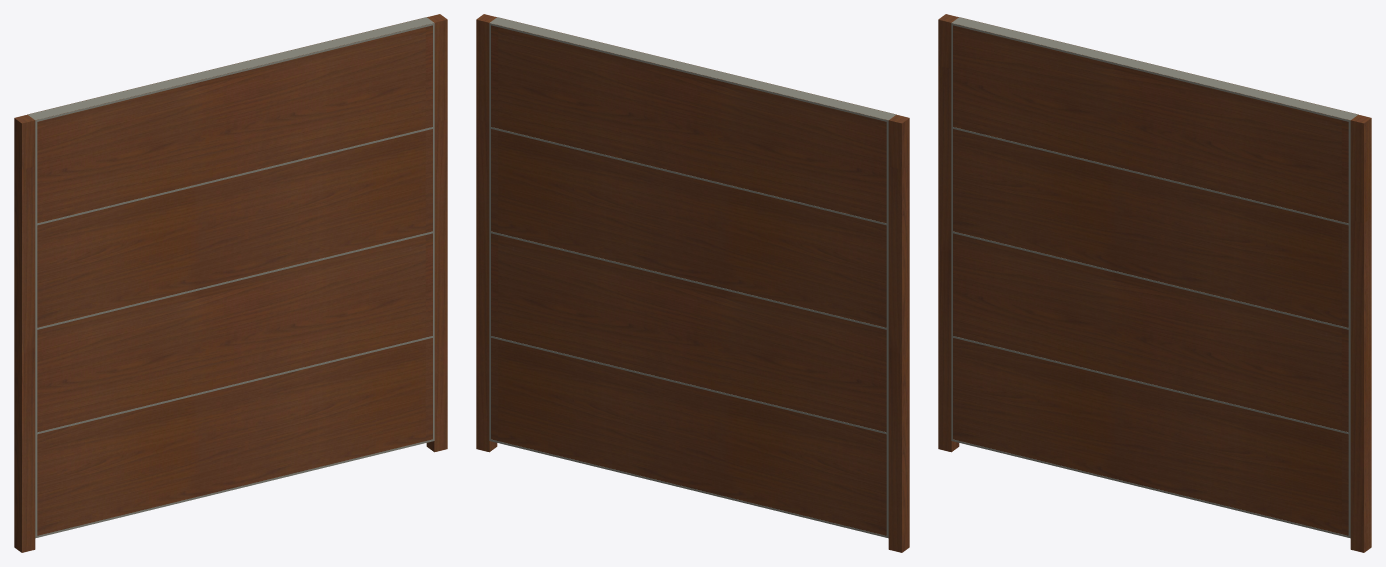
The model's file is ABF1-H1800_walnut.fbx.
The picture shows the model from 3 angles, left to right: view 1: azimuth 30°, elevation 25°; view 2: azimuth 150°, elevation 25°; view 3: azimuth 330°, elevation 25°; orthographic projection.
Visible parts, largest first — view 1: ABF1-H1800_Walnut; view 2: ABF1-H1800_Walnut; view 3: ABF1-H1800_Walnut.
Boxes of the visible parts, box(x1,y1,x2,y2) form: ABF1-H1800_Walnut: box(14, 14, 447, 552); ABF1-H1800_Walnut: box(476, 14, 909, 552); ABF1-H1800_Walnut: box(938, 14, 1371, 552).
Size of the model in its own units: 192 by 185 by 6.4.
Materials: 4 (3 with a texture image).
